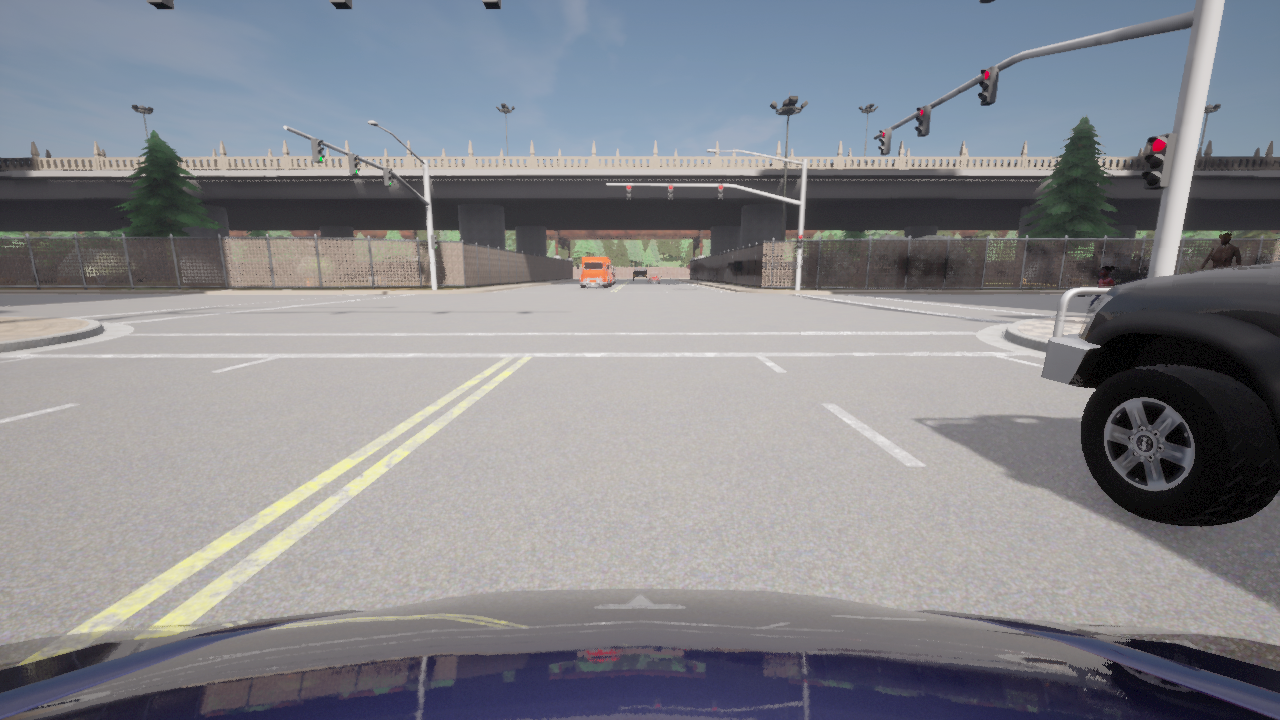cyclist: (0, 588, 1279, 719), (1040, 262, 1279, 526), (576, 257, 612, 288), (631, 267, 647, 281), (647, 271, 660, 284), (611, 265, 615, 284), (600, 284, 602, 285)
pedestrian: (1196, 231, 1242, 270), (1087, 267, 1114, 310)
